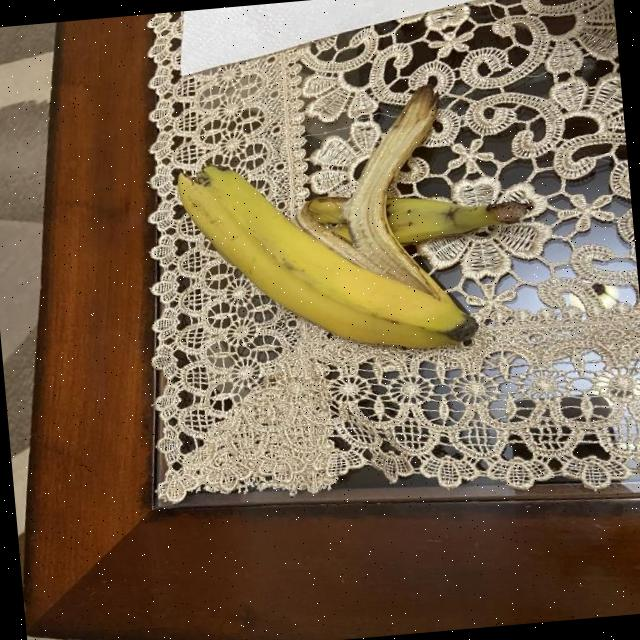banana-peel: (168, 75, 540, 371)
